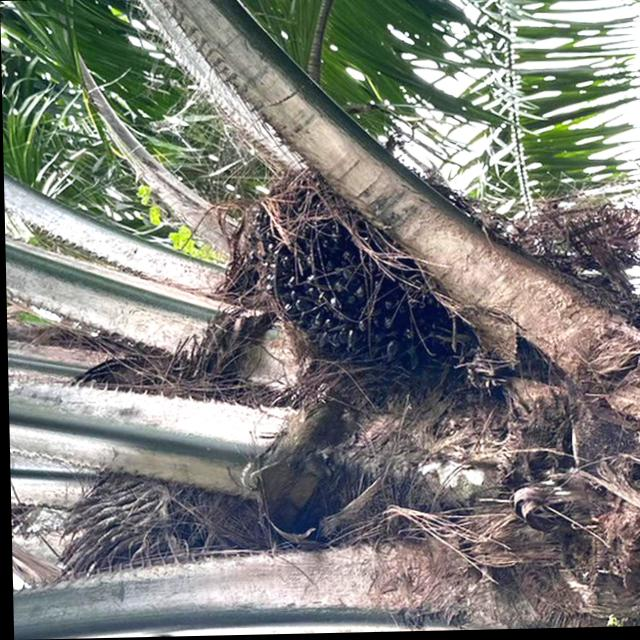unripe: (243, 169, 436, 393)
